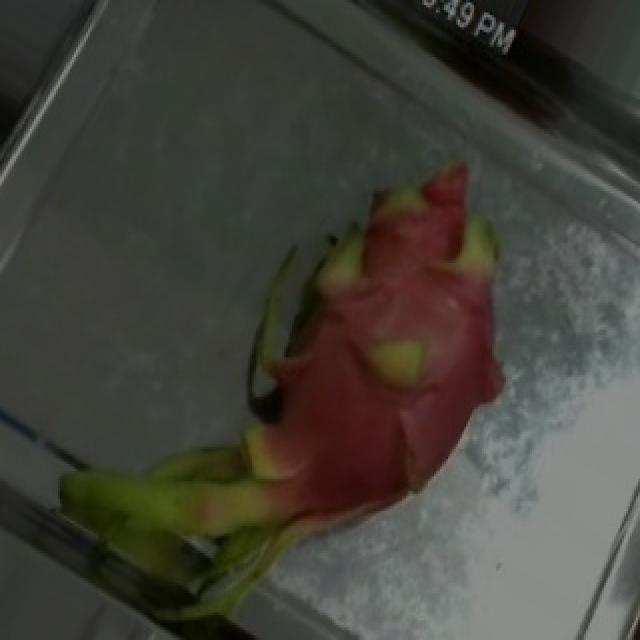fruit: (174, 72, 610, 533)
